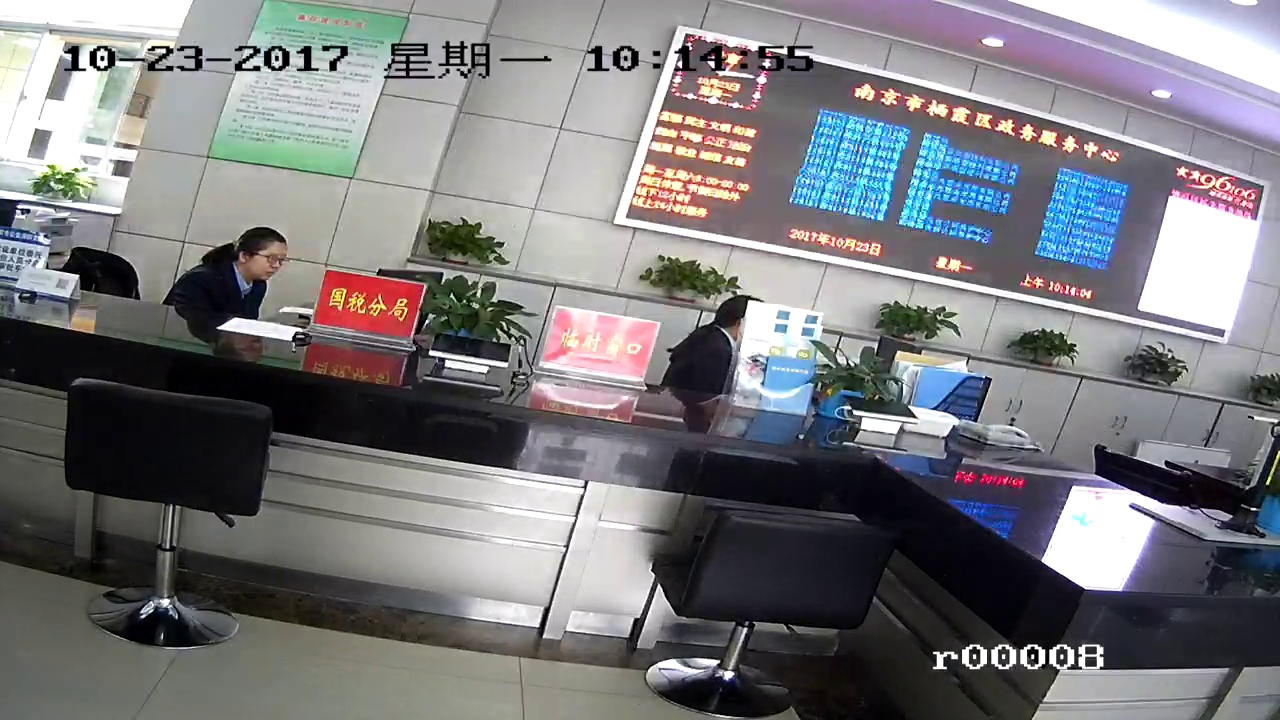billboard: (238, 4, 397, 188), (310, 275, 429, 345)
chair: (64, 384, 265, 663), (669, 499, 881, 709)
monitor: (636, 54, 1247, 301)
person: (184, 231, 297, 329)
pot: (636, 249, 728, 305), (872, 293, 950, 342), (432, 220, 515, 265), (1023, 318, 1073, 367), (1130, 346, 1187, 387)
